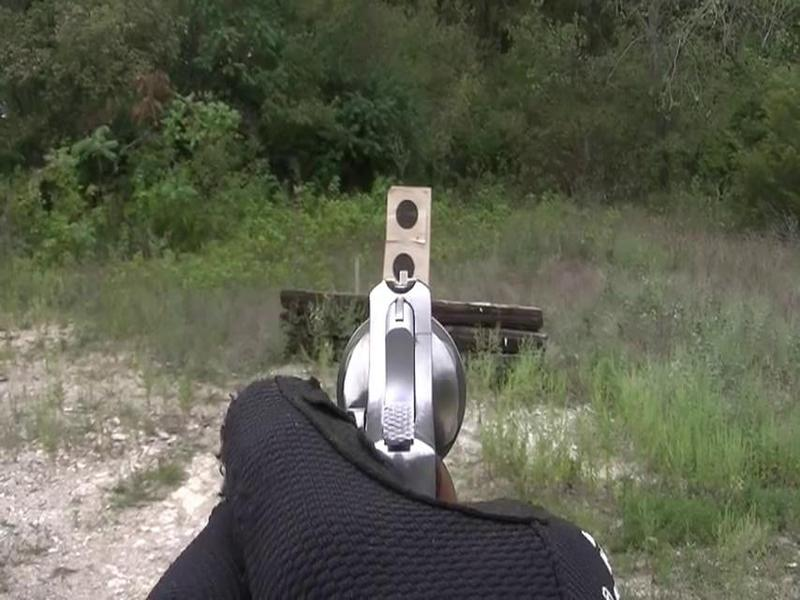Revolver: (345, 261, 477, 490)
